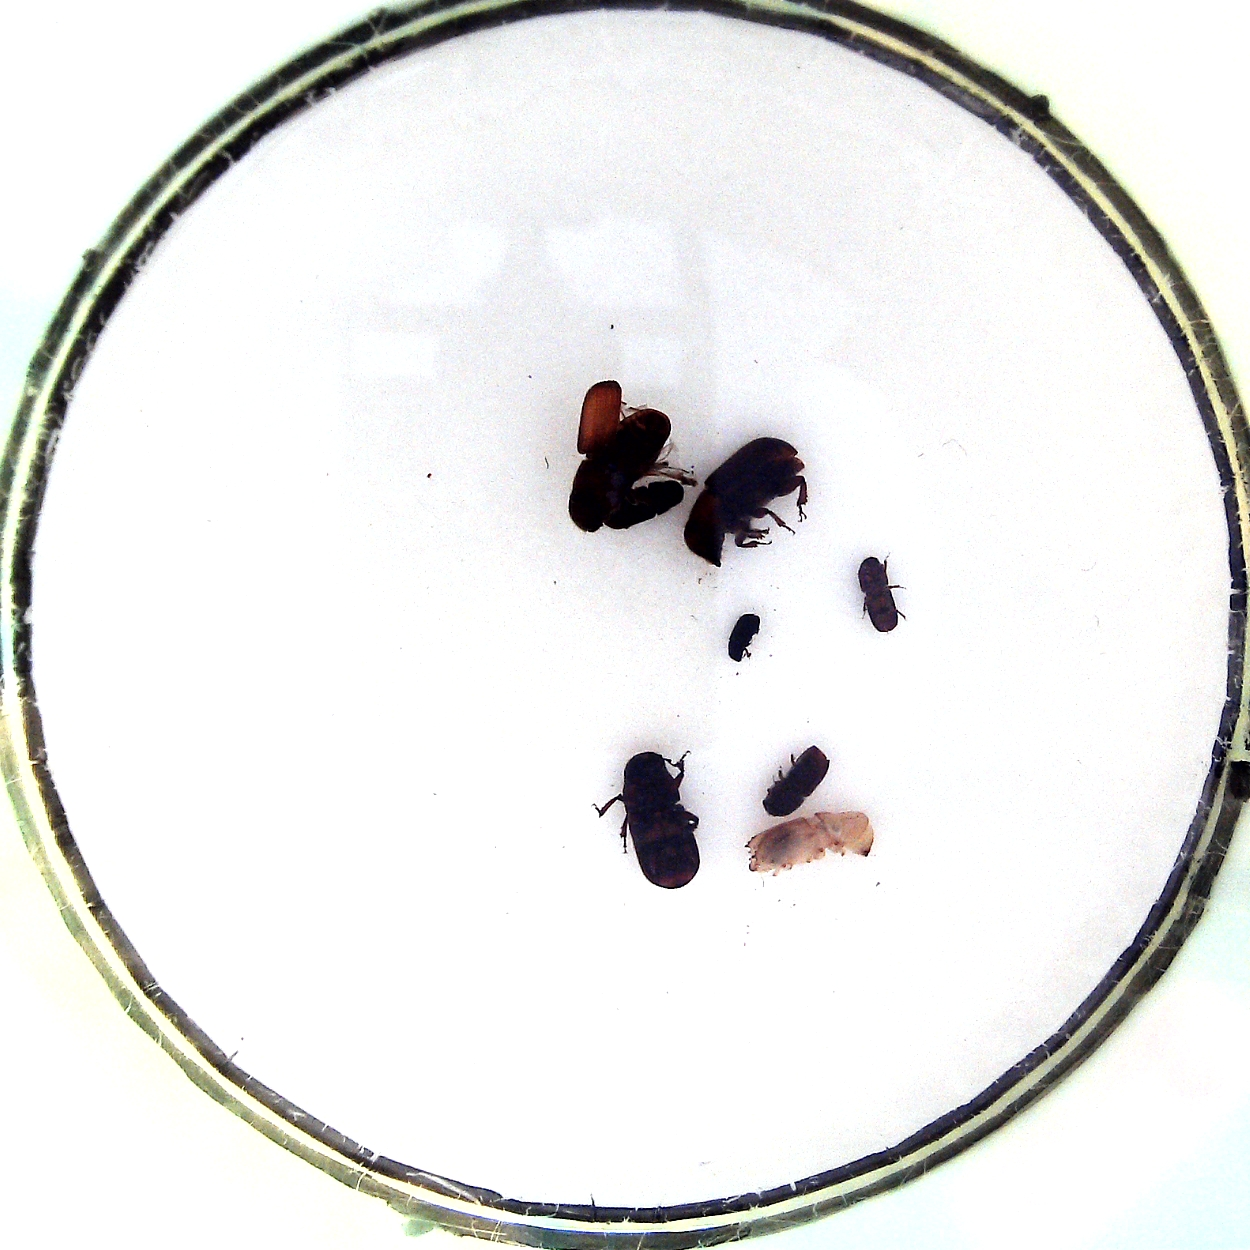Boerner: (739, 807, 877, 876)
Leconte: (680, 435, 808, 570), (598, 747, 702, 889), (565, 383, 662, 527)
Linnaeus: (755, 743, 832, 813)
acuminatus: (853, 552, 908, 635)
armandi: (610, 486, 685, 535)
